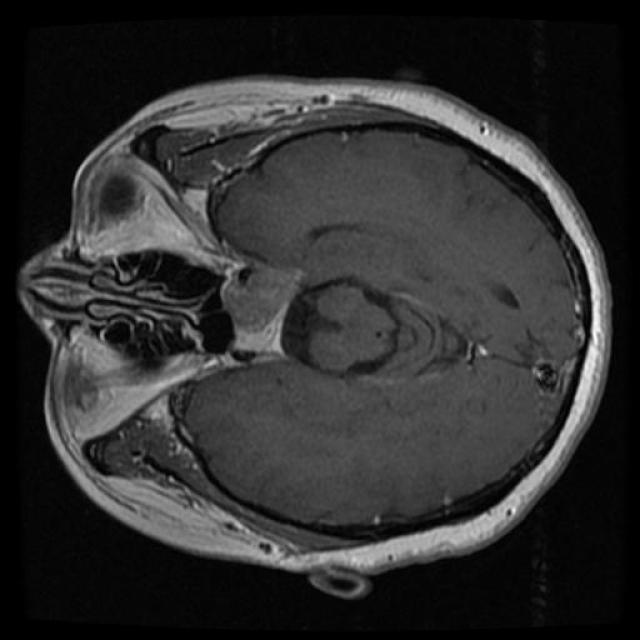Pituitary: (220, 263, 304, 360)
